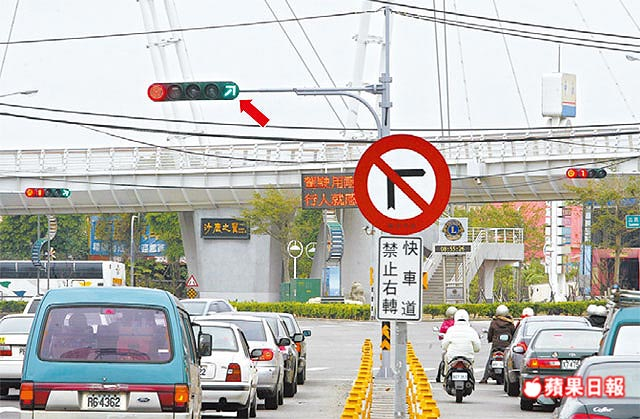No_right_turn: (352, 133, 453, 236)
